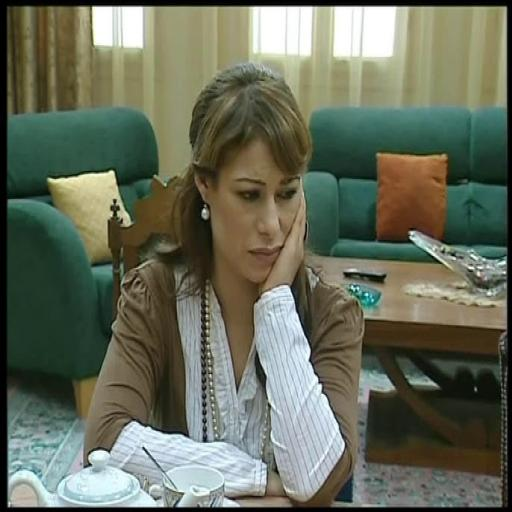zeineb: (195, 140, 305, 290)
